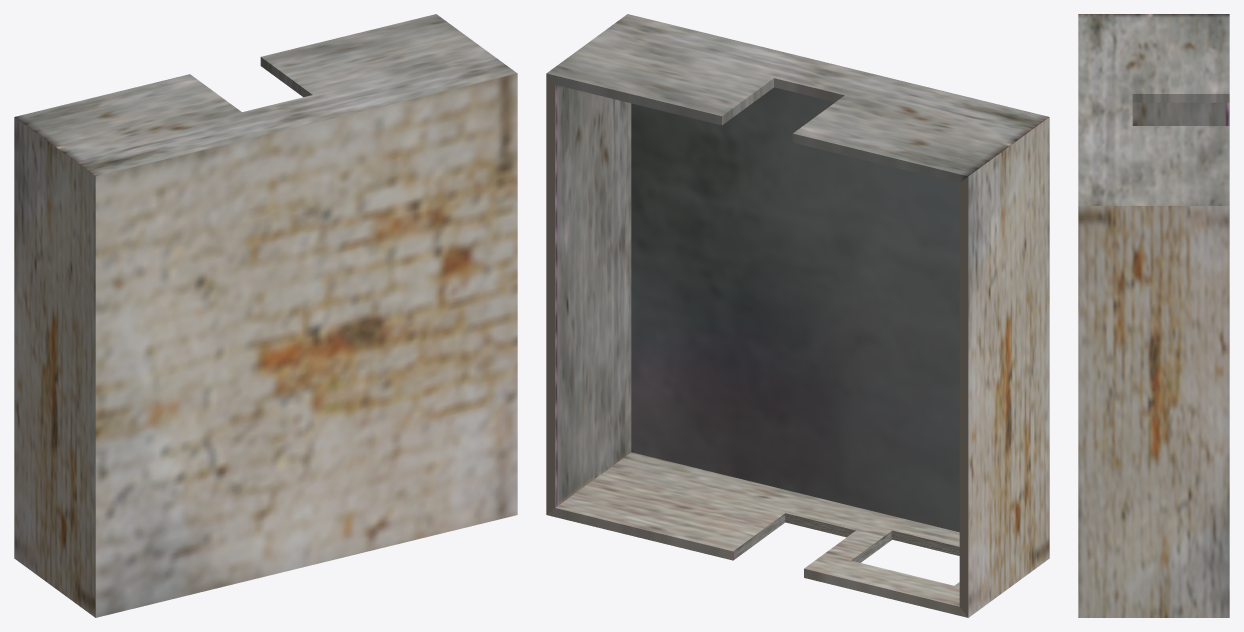
The model's file is 6x6NS_SWindow_wtf.obj.
3 renders of one model, left to right at view 1: azimuth 30°, elevation 25°; view 2: azimuth 150°, elevation 25°; view 3: azimuth 270°, elevation 25°, orthographic. The views are drawn at different scales.
Visible parts, largest first — view 1: group2; view 2: group2; view 3: group2.
Boxes of the visible parts, box(x1,y1,x2,y2) form: group2: box(14, 14, 517, 617); group2: box(546, 14, 1049, 617); group2: box(1078, 14, 1229, 617).
Bounding box in the file's own units: 660 × 660 × 220.
